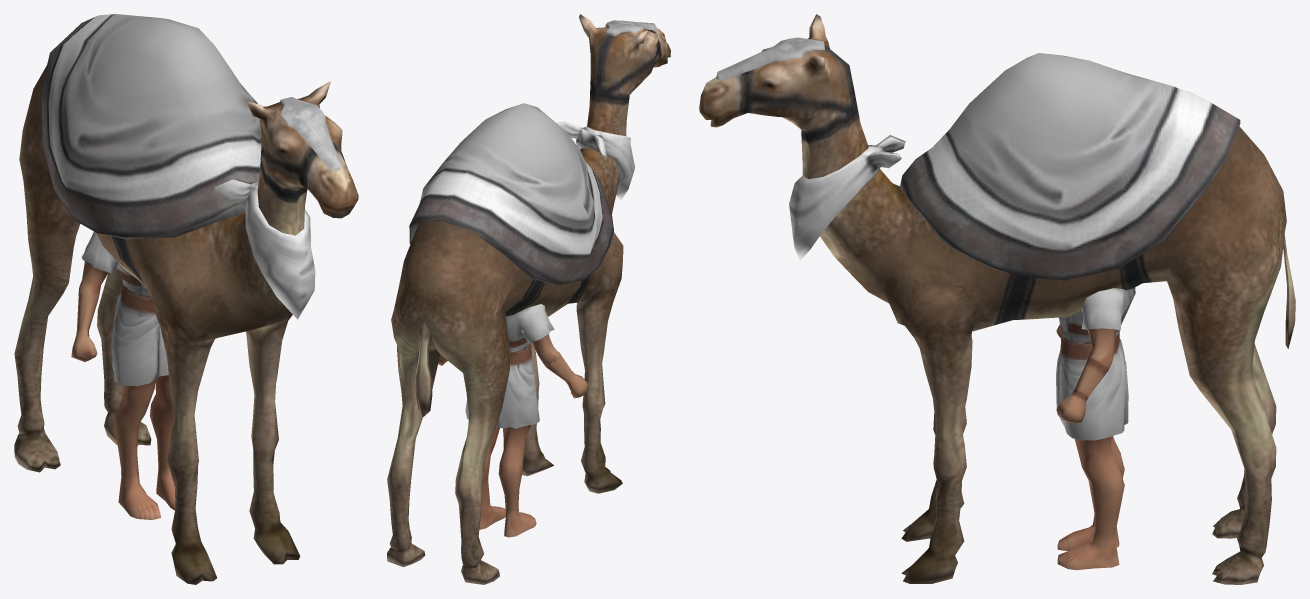
The model's file is 10-camelrider.glb.
The picture shows the model from 3 angles, left to right: view 1: azimuth 30°, elevation 25°; view 2: azimuth 150°, elevation 25°; view 3: azimuth 270°, elevation 25°; orthographic projection. The views are drawn at different scales.
Bounding box in the file's own units: 1.2 × 2.99 × 3.11.
2 materials, 2 textured.
